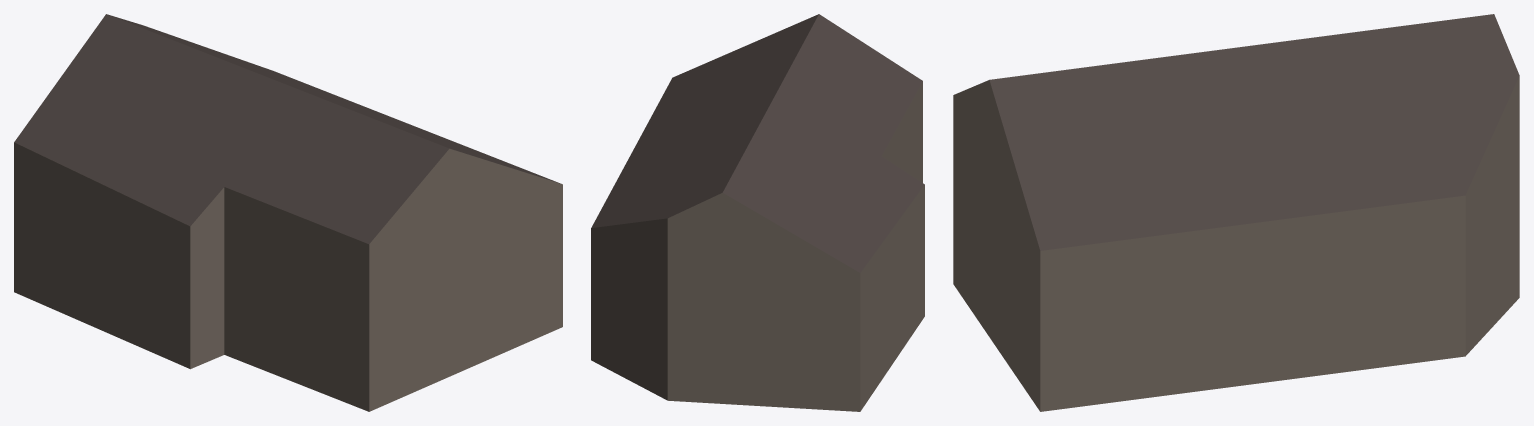
3 views of the same model, side by side, from view 1: azimuth 30°, elevation 25°; view 2: azimuth 150°, elevation 25°; view 3: azimuth 270°, elevation 25° (orthographic). The views are drawn at different scales.
Parts seen in each view (by area): view 1: HP-w1197025787; view 2: HP-w1197025787; view 3: HP-w1197025787.
Part boxes in pixels (box(x1,y1,x2,y2)): HP-w1197025787: box(14, 14, 562, 411); HP-w1197025787: box(591, 14, 924, 411); HP-w1197025787: box(953, 14, 1519, 411).
Bounding box in the file's own units: 16.53 × 9.59 × 19.13.
